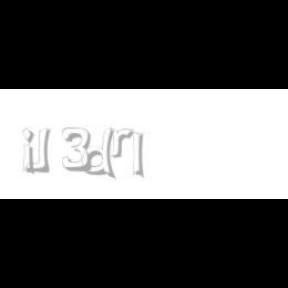3: (62, 128, 94, 172)
I: (132, 128, 144, 180)
J: (26, 128, 50, 172)
d: (82, 128, 119, 180)
i: (22, 128, 38, 176)
r: (110, 128, 136, 158)
